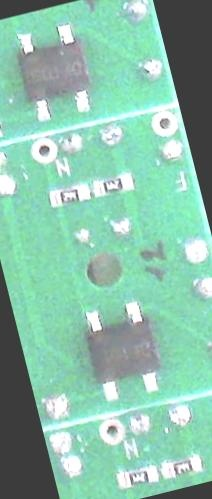chip-resistor: (111, 460, 161, 494), (90, 166, 138, 200), (159, 450, 206, 483), (45, 179, 92, 211)
ic: (74, 291, 170, 407)
